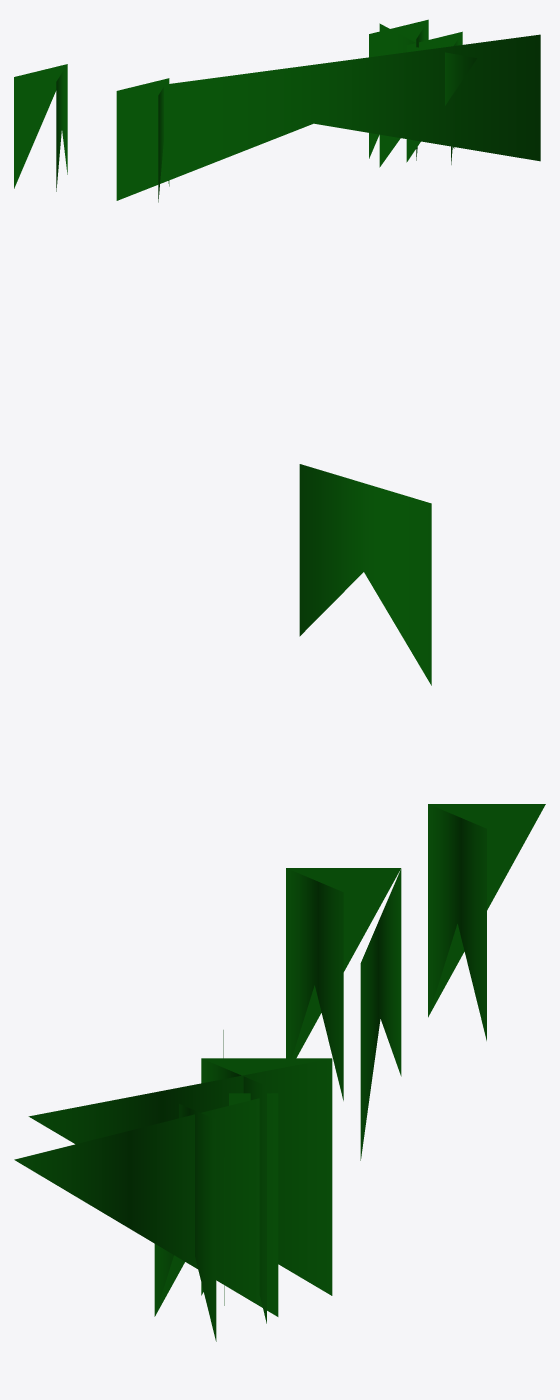
The picture shows the model from 3 angles, top to bottom: view 1: azimuth 30°, elevation 25°; view 2: azimuth 150°, elevation 25°; view 3: azimuth 270°, elevation 25°; orthographic projection. The views are drawn at different scales.
Bounding box in the file's own units: 64.37 × 20.94 × 36.79.
